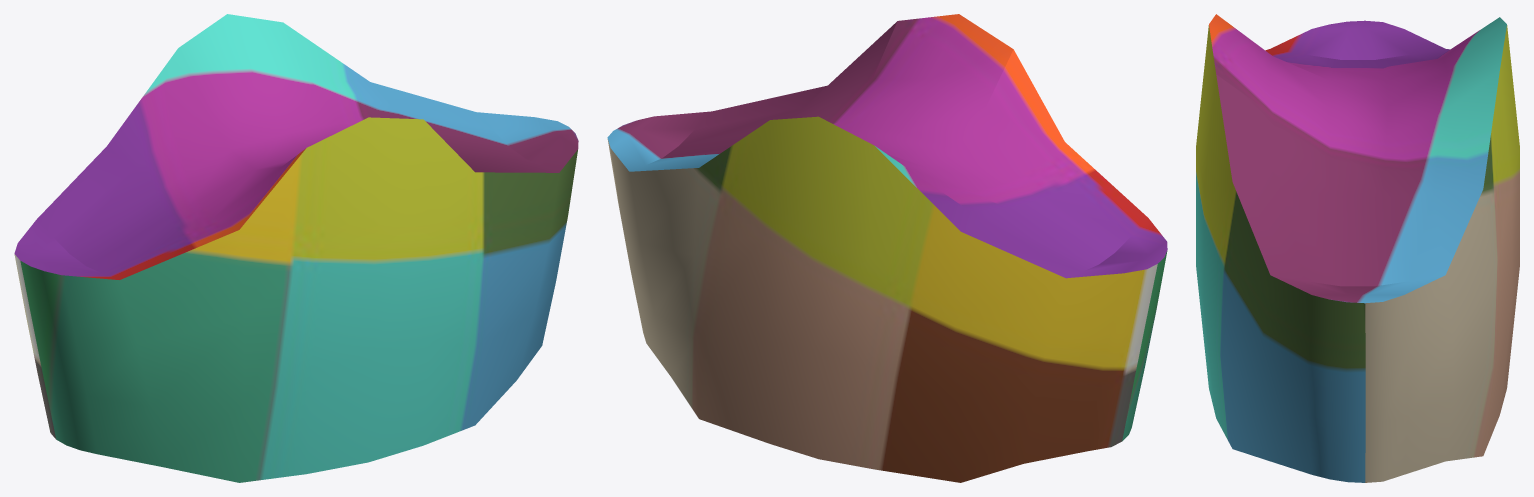
File: Hat.fbx
The picture shows the model from 3 angles, left to right: view 1: azimuth 30°, elevation 25°; view 2: azimuth 150°, elevation 25°; view 3: azimuth 270°, elevation 25°; orthographic projection. The views are drawn at different scales.
Visible parts, largest first — view 1: Hat; view 2: Hat; view 3: Hat.
Boxes of the visible parts, x1,y1,x2,y2 form: Hat: (14, 14, 578, 482); Hat: (607, 14, 1167, 482); Hat: (1196, 14, 1519, 482).
Bounding box in the file's own units: 50.69 × 30.47 × 24.55.
